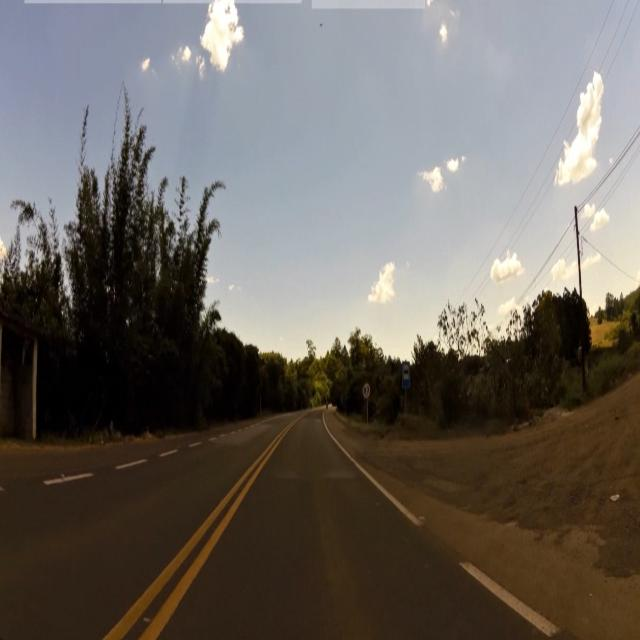S-14: (402, 360, 410, 389)
